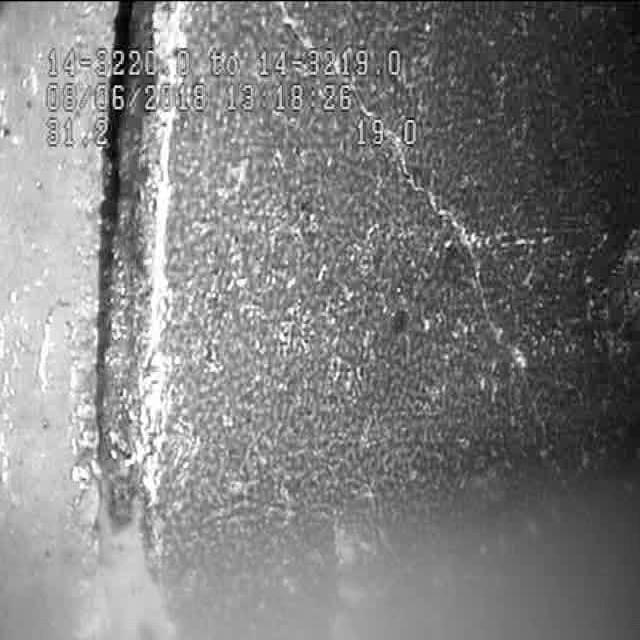Crack: (410, 162, 524, 360)
